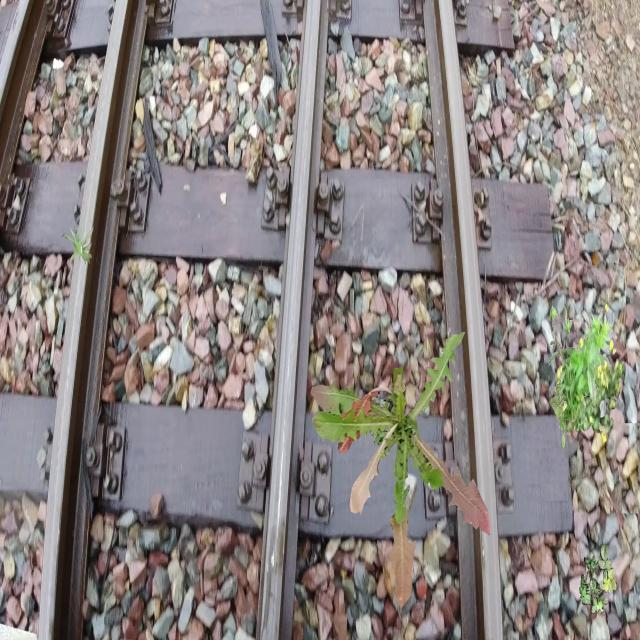Plant: (311, 332, 491, 610), (550, 304, 625, 444), (549, 305, 614, 448), (579, 543, 616, 616), (61, 220, 94, 266), (372, 420, 396, 461)
